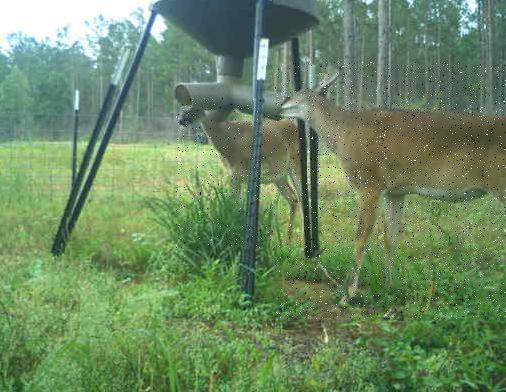Deer: (275, 62, 506, 319), (175, 98, 306, 248)
